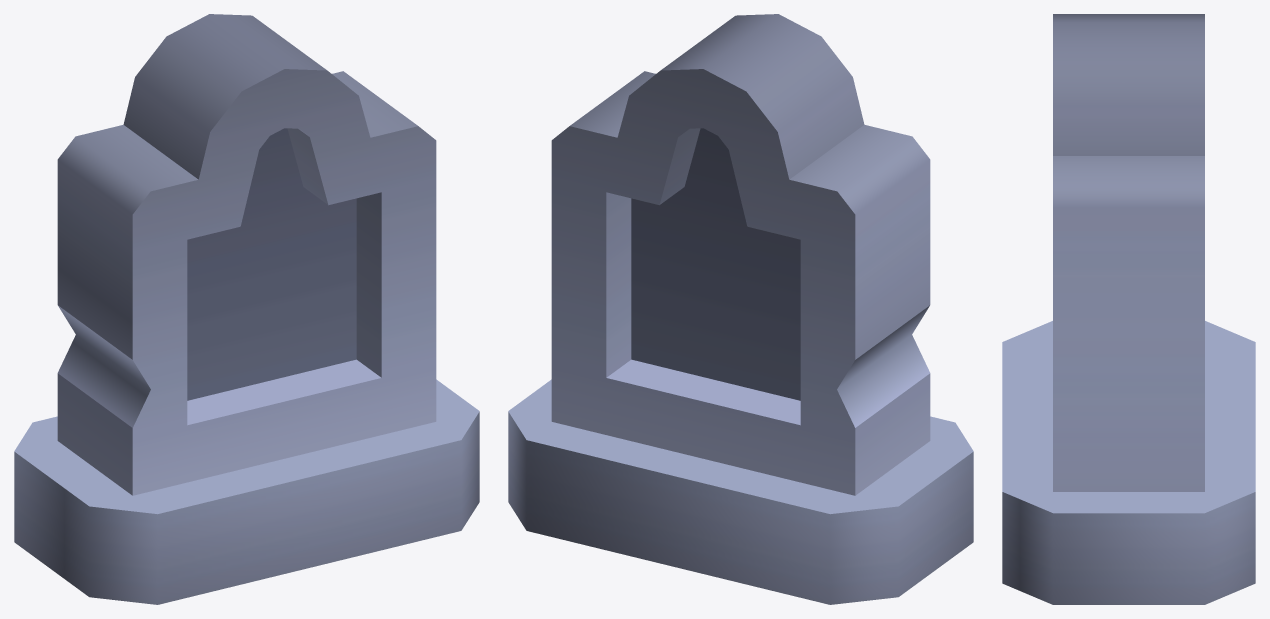
Rendered from k-graveyard-gravestone-bevel.glb.
3 renders of one model, left to right at view 1: azimuth 30°, elevation 25°; view 2: azimuth 150°, elevation 25°; view 3: azimuth 270°, elevation 25°, orthographic.
Visible parts, largest first — view 1: gravestone-bevel; view 2: gravestone-bevel; view 3: gravestone-bevel.
Boxes of the visible parts, box(x1,y1,x2,y2) form: gravestone-bevel: box(14, 14, 479, 604); gravestone-bevel: box(508, 14, 973, 604); gravestone-bevel: box(1002, 14, 1255, 604).
Size of the model in its own units: 0.45 by 0.5293 by 0.25.
Materials: 1 (1 with a texture image).
